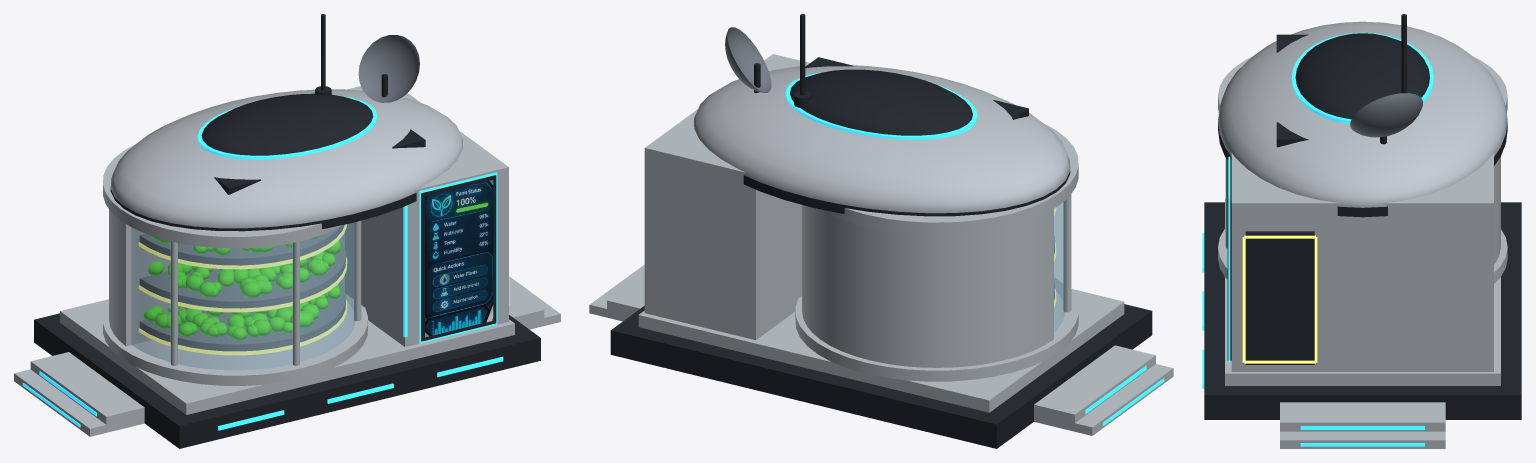
The model's file is Hydroponic_Farm_M01.fbx.
3 renders of one model, left to right at view 1: azimuth 30°, elevation 25°; view 2: azimuth 150°, elevation 25°; view 3: azimuth 270°, elevation 25°, orthographic. The views are drawn at different scales.
Visible parts, largest first — view 1: Roof_Dome, Glass, Plinth_Base, Glass_Frame, Control_Block, Screen, Plinth_Upper, Roof_Cap, Steps, Back_Wall, Glow_Strips, Plants_Tier_1 (+10 smaller); view 2: Back_Wall, Roof_Dome, Control_Block, Plinth_Base, Glass_Frame, Plinth_Upper, Roof_Cap, Steps, Glow_Strips, Roof_Skirt, Dish, Glass (+2 smaller); view 3: Control_Block, Roof_Dome, Plinth_Base, Door_Frame, Roof_Cap, Steps, Plinth_Upper, Glow_Strips, Dish, Glass_Frame, Door_Glow, Screen_Bezel (+4 smaller).
Part boxes in pixels (x1,y1,x2,y2): Roof_Dome: (110,89,462,228); Glass: (131,222,354,369); Plinth_Base: (34,313,540,448); Glass_Frame: (103,144,367,385); Control_Block: (345,86,508,346); Screen: (425,180,493,337); Plinth_Upper: (60,299,514,414); Roof_Cap: (201,93,373,155); Steps: (14,276,560,436); Back_Wall: (109,160,344,346); Glow_Strips: (22,95,503,430); Plants_Tier_1: (144,284,340,340); Back_Wall: (802,205,1053,367); Roof_Dome: (694,65,1070,213); Control_Block: (644,54,809,340); Plinth_Base: (610,304,1152,448); Glass_Frame: (795,123,1078,381); Plinth_Upper: (638,289,1124,412); Roof_Cap: (790,69,972,135); Steps: (589,264,1173,435); Glow_Strips: (785,58,1164,425); Roof_Skirt: (743,171,1070,216); Dish: (725,27,771,92); Glass: (1054,201,1065,331); Control_Block: (1231,153,1493,371); Roof_Dome: (1218,21,1507,207); Plinth_Base: (1204,202,1521,419); Door_Frame: (1245,231,1314,364); Roof_Cap: (1295,33,1429,119); Steps: (1280,402,1445,448); Plinth_Upper: (1225,198,1500,385); Glow_Strips: (1202,32,1433,446); Dish: (1350,93,1422,137); Glass_Frame: (1218,56,1507,283); Door_Glow: (1242,235,1317,363); Screen_Bezel: (1227,159,1231,360).
Size of the model in its own units: 8.63 by 5.4 by 4.62.
